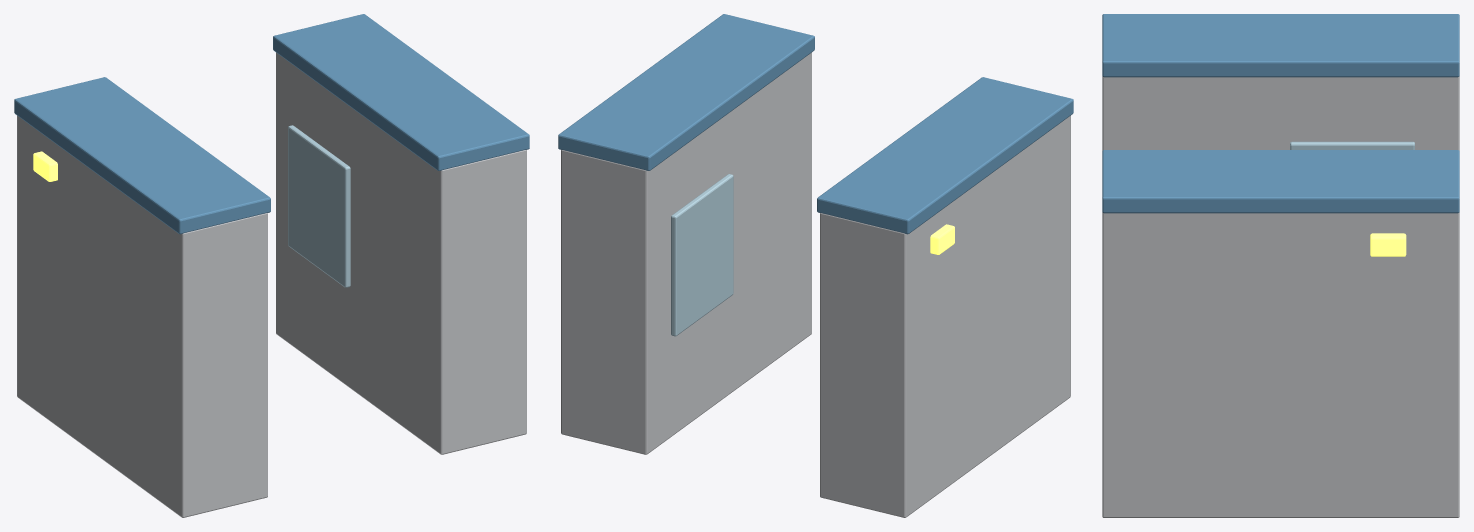
File: ticket_gate.glb
3 renders of one model, left to right at view 1: azimuth 30°, elevation 25°; view 2: azimuth 150°, elevation 25°; view 3: azimuth 270°, elevation 25°, orthographic. The views are drawn at different scales.
Visible parts, largest first — view 1: gate_box-0.45, gate_box0.45, gate_top0.45, gate_top-0.45, gate_flap_r, gate_reader-0.45; view 2: gate_box-0.45, gate_box0.45, gate_top0.45, gate_top-0.45, gate_flap_r, gate_reader-0.45; view 3: gate_box0.45, gate_box-0.45, gate_top-0.45, gate_top0.45, gate_flap_l, gate_reader0.45.
Part boxes in pixels (<box>): gate_box-0.45: <box>17,115,267,517</box>; gate_box0.45: <box>276,52,526,454</box>; gate_top0.45: <box>273,14,529,170</box>; gate_top-0.45: <box>14,77,270,234</box>; gate_flap_r: <box>288,125,350,287</box>; gate_reader-0.45: <box>33,151,57,181</box>; gate_box-0.45: <box>820,115,1070,517</box>; gate_box0.45: <box>561,52,811,454</box>; gate_top0.45: <box>558,14,814,170</box>; gate_top-0.45: <box>817,77,1073,234</box>; gate_flap_r: <box>671,174,733,336</box>; gate_reader-0.45: <box>930,224,954,254</box>; gate_box0.45: <box>1102,212,1459,517</box>; gate_box-0.45: <box>1102,76,1459,150</box>; gate_top-0.45: <box>1102,14,1459,77</box>; gate_top0.45: <box>1102,150,1459,213</box>; gate_flap_l: <box>1290,141,1414,149</box>; gate_reader0.45: <box>1370,233,1406,256</box>.
Size of the model in its own units: 1.26 by 0.995 by 1.
